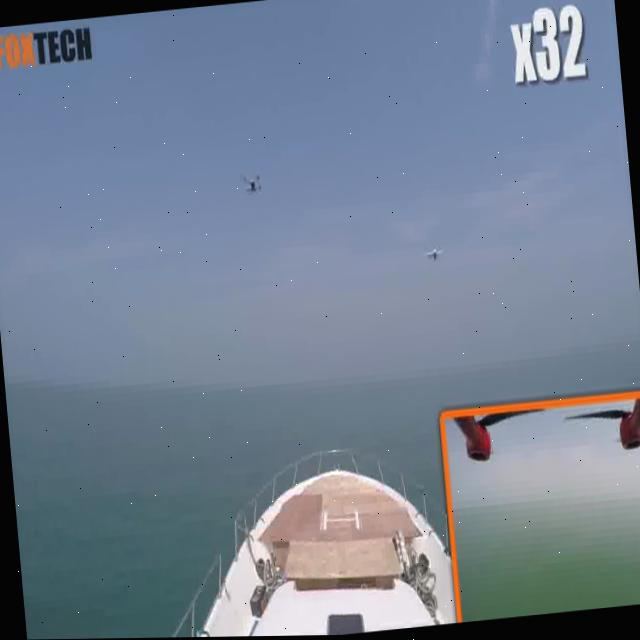drone: (231, 154, 271, 205), (420, 237, 450, 270)
